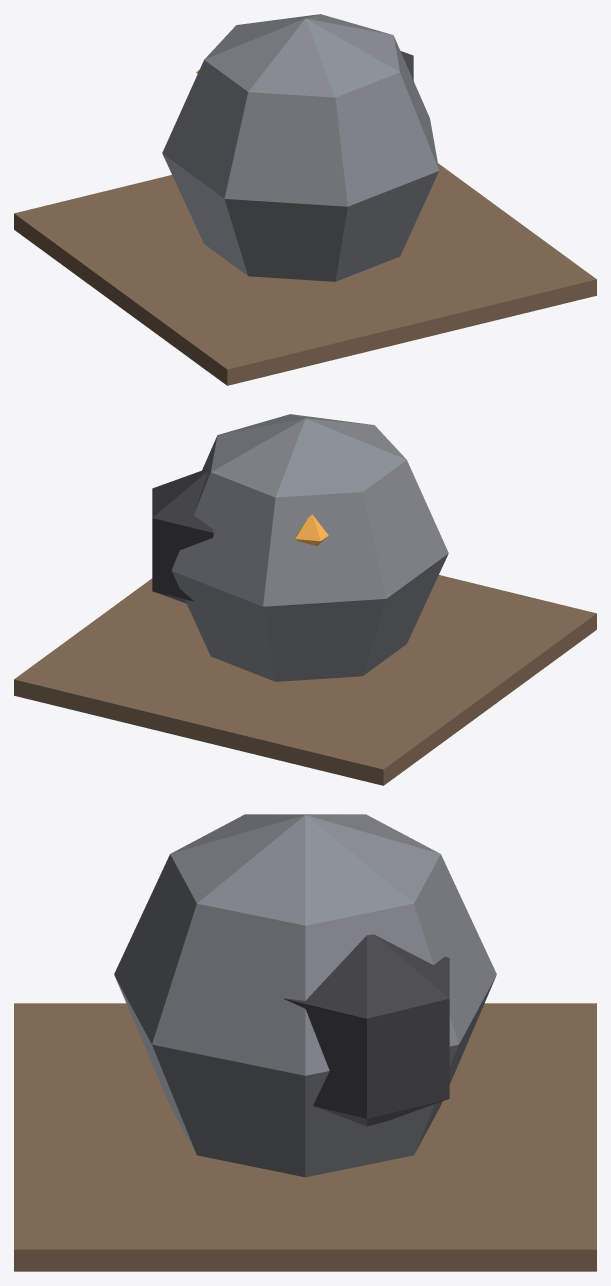
File: meteorite.glb
The picture shows the model from 3 angles, top to bottom: view 1: azimuth 30°, elevation 25°; view 2: azimuth 150°, elevation 25°; view 3: azimuth 270°, elevation 25°; orthographic projection. The views are drawn at different scales.
Parts seen in each view (by area): view 1: meteorite; view 2: meteorite; view 3: meteorite.
Part boxes in pixels (bbox=[...]): meteorite: bbox=[14, 14, 596, 385]; meteorite: bbox=[14, 414, 596, 785]; meteorite: bbox=[14, 814, 596, 1271].
Bounding box in the file's own units: 0.95 × 0.64 × 0.95.
